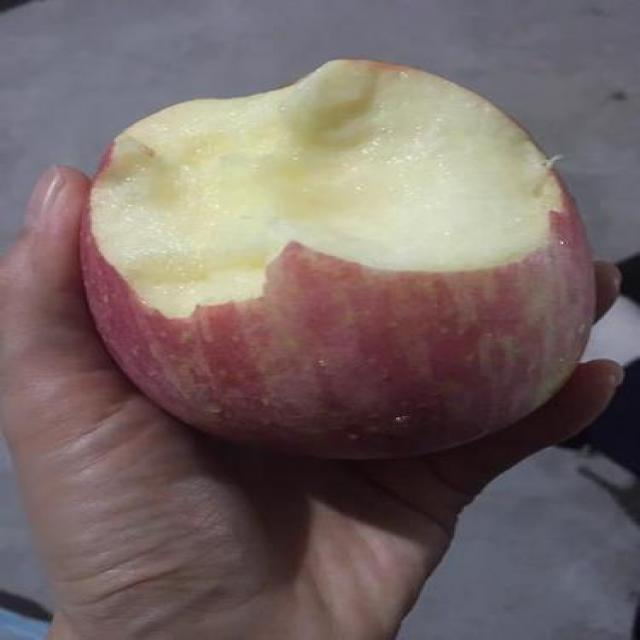Rotten: (64, 46, 610, 461)
